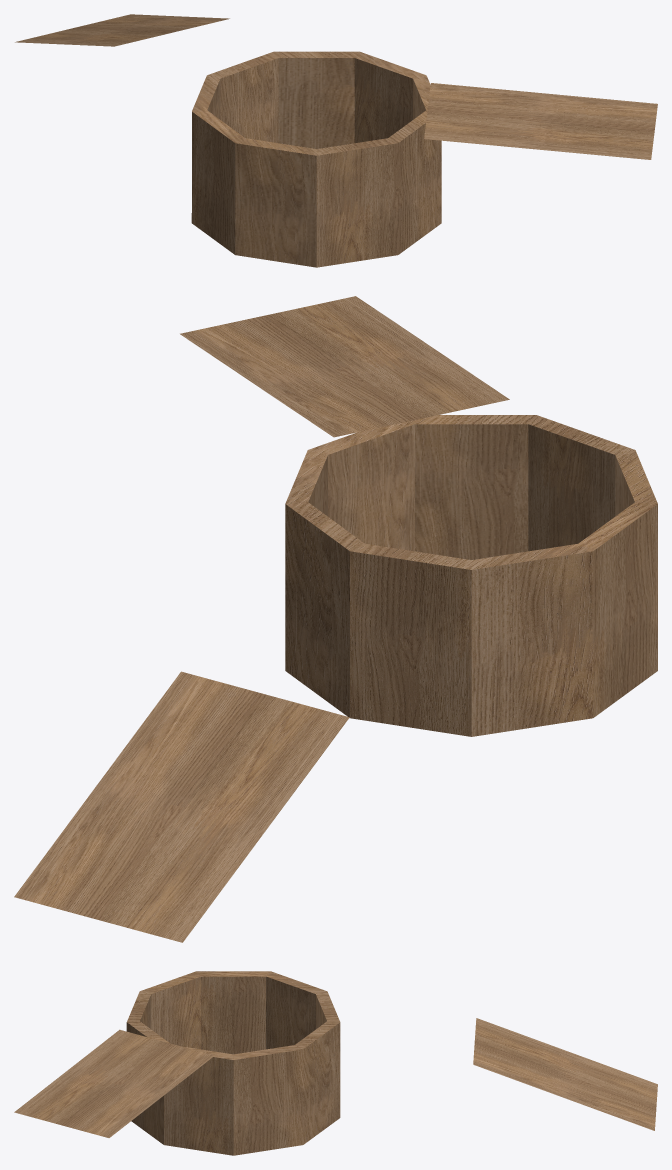
The model's file is Tina.obj.
3 renders of one model, top to bottom at view 1: azimuth 30°, elevation 25°; view 2: azimuth 150°, elevation 25°; view 3: azimuth 270°, elevation 25°, orthographic. The views are drawn at different scales.
Visible parts, largest first — view 1: pCylinder3, pasted__pPlane1 group8, pPlane1; view 2: pCylinder3, pPlane1, pasted__pPlane1 group8; view 3: pCylinder3, pasted__pPlane1 group8, pPlane1.
Boxes of the visible parts, x1,y1,x2,y2 form: pCylinder3: (191, 51, 441, 267); pasted__pPlane1 group8: (424, 83, 657, 159); pPlane1: (15, 14, 229, 46); pCylinder3: (285, 415, 657, 736); pPlane1: (14, 671, 349, 942); pasted__pPlane1 group8: (180, 296, 509, 437); pCylinder3: (126, 971, 340, 1155); pasted__pPlane1 group8: (14, 1029, 214, 1137); pPlane1: (473, 1018, 657, 1130).
Size of the model in its own units: 5.63 by 1.65 by 9.87.
Materials: 2 (2 with a texture image).
